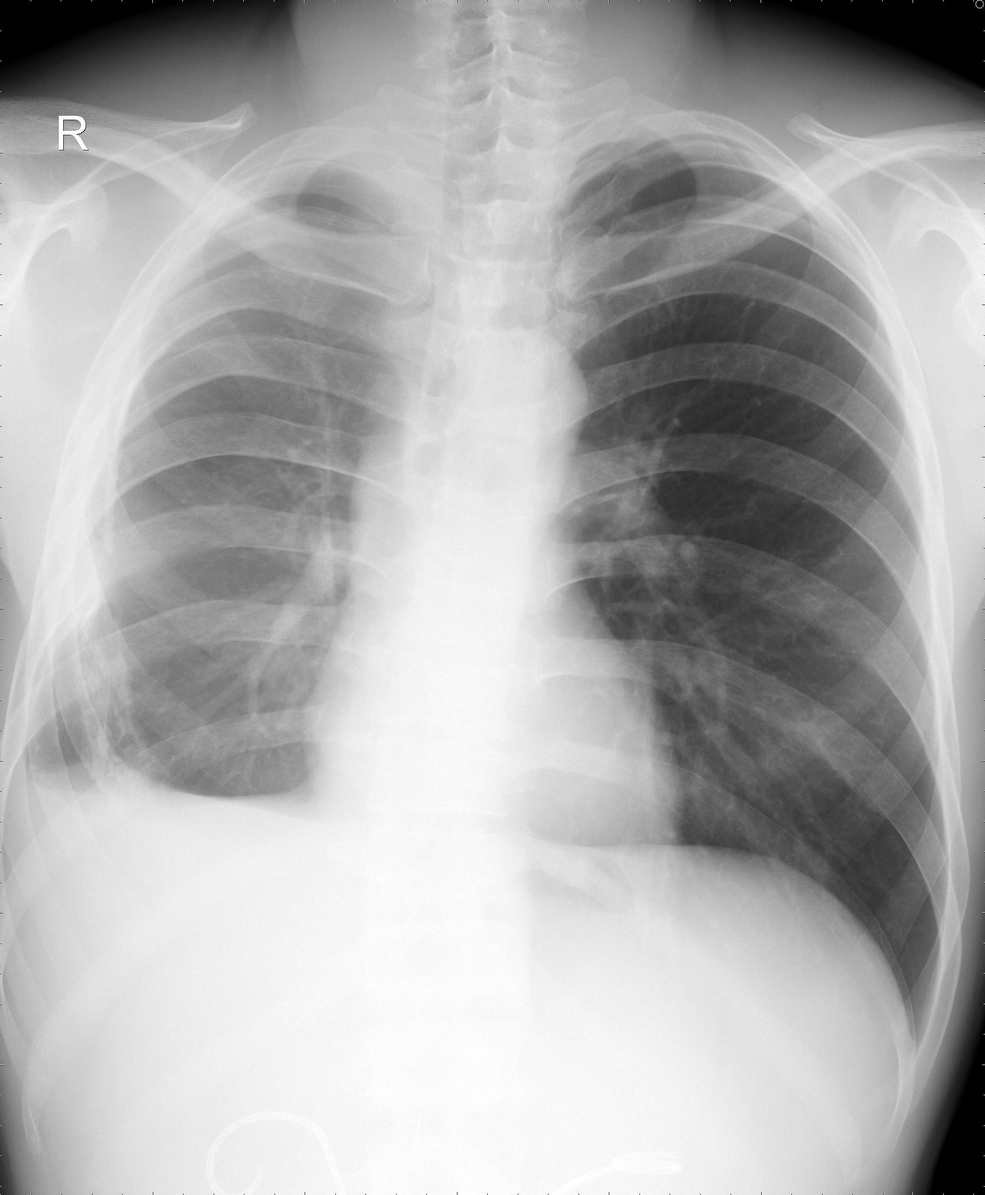Aortic enlargement: (459, 325, 590, 460)
Pleural thickening: (17, 555, 179, 786), (80, 307, 161, 564), (2, 711, 55, 837)
